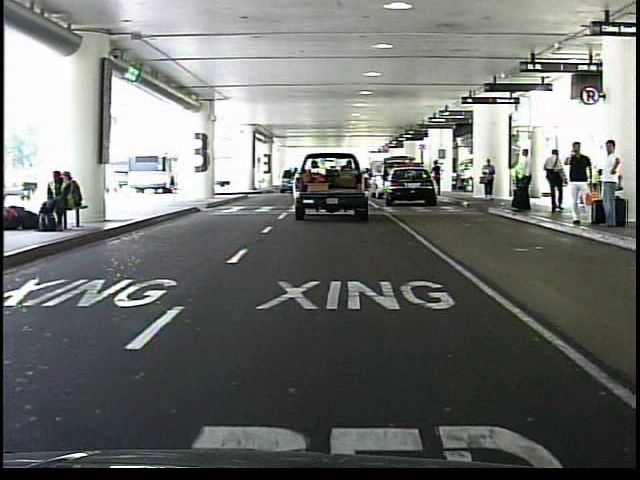person: (561, 139, 595, 228), (596, 137, 626, 235), (510, 146, 537, 216), (544, 145, 570, 216), (480, 158, 498, 204), (431, 160, 444, 199)
